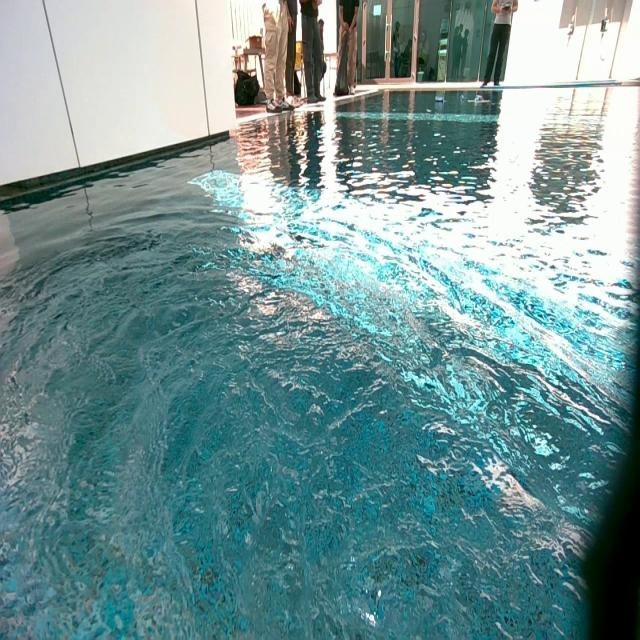Cans: (434, 94, 445, 103), (473, 95, 482, 104), (460, 94, 467, 103)
